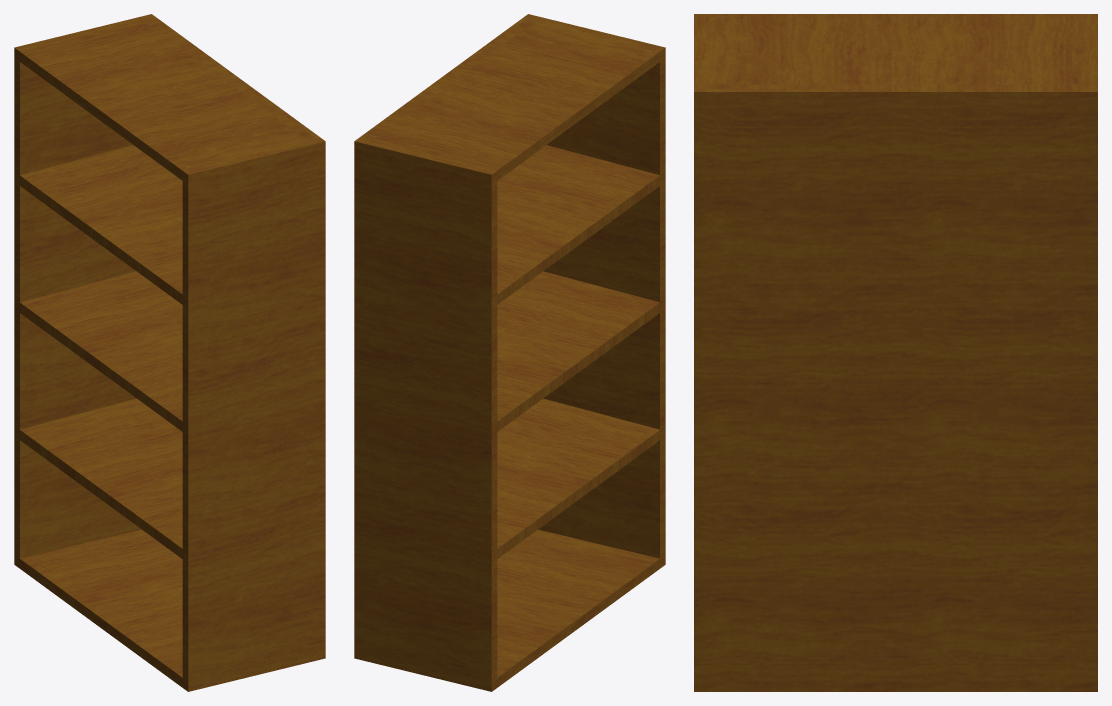
Rendered from almira kitchen.fbx.
The picture shows the model from 3 angles, left to right: view 1: azimuth 30°, elevation 25°; view 2: azimuth 150°, elevation 25°; view 3: azimuth 270°, elevation 25°; orthographic projection. The views are drawn at different scales.
Visible parts, largest first — view 1: bEDROOM dRWAER.002; view 2: bEDROOM dRWAER.002; view 3: bEDROOM dRWAER.002.
Part boxes in pixels (left/top/right/bottom): bEDROOM dRWAER.002: left=14, top=14, right=325, bottom=691; bEDROOM dRWAER.002: left=354, top=14, right=665, bottom=691; bEDROOM dRWAER.002: left=694, top=14, right=1097, bottom=691.
Size of the model in its own units: 462 by 1662 by 1013.
Materials: 1 (1 with a texture image).
